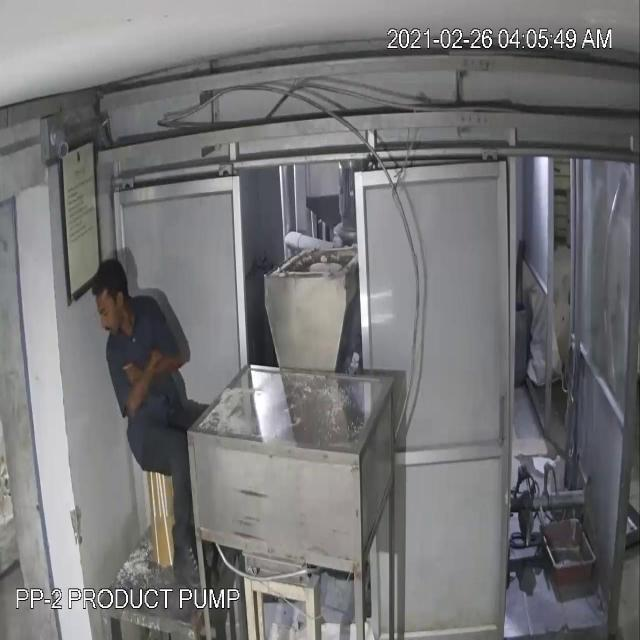no-helmet: (84, 252, 128, 308)
